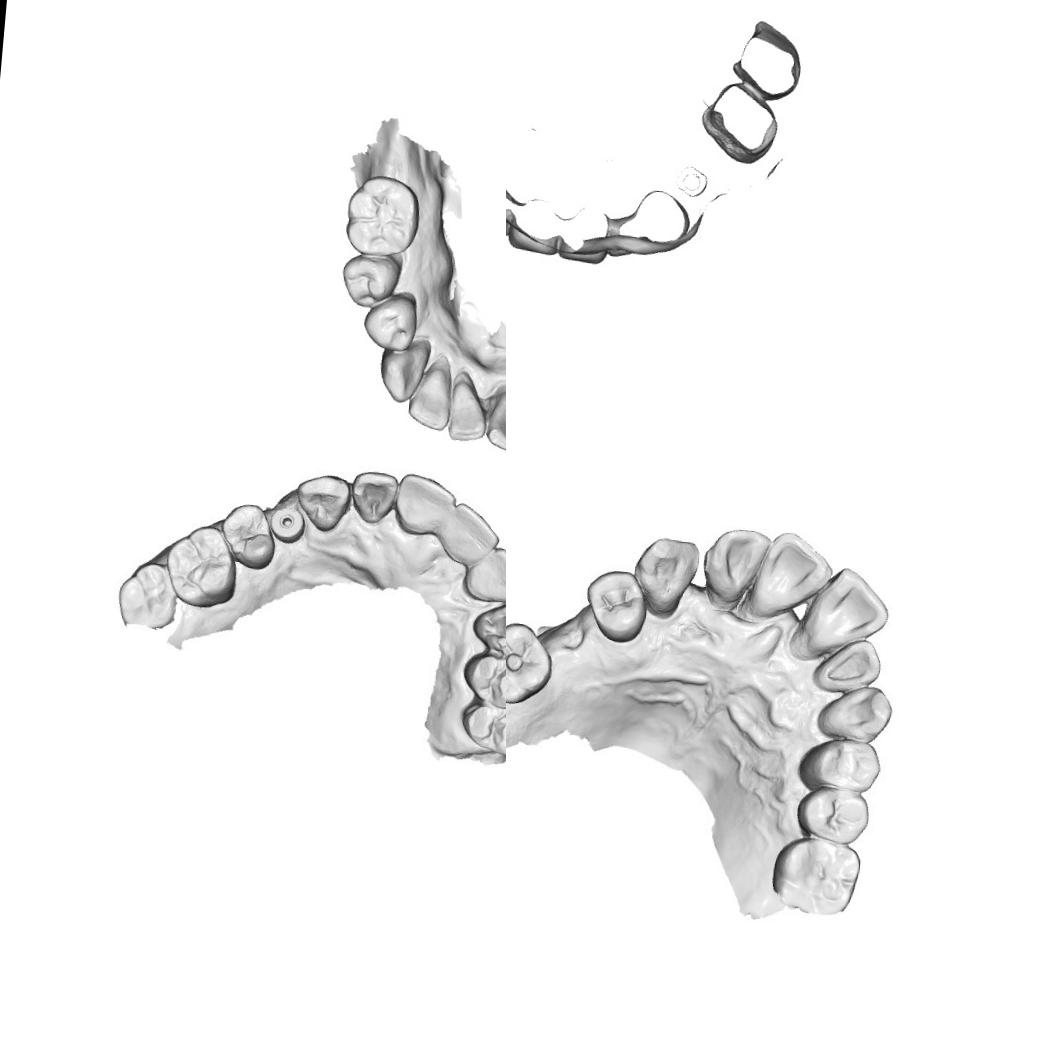canine: (630, 531, 697, 620), (810, 680, 898, 744), (292, 469, 350, 534), (468, 599, 506, 659)
implant: (270, 506, 307, 543)
incisor: (740, 523, 834, 632), (798, 563, 893, 656), (698, 525, 770, 605), (390, 468, 458, 538), (435, 497, 506, 564), (810, 634, 886, 694), (378, 338, 428, 407), (406, 364, 456, 432), (459, 538, 506, 605), (347, 468, 398, 526), (446, 378, 489, 446), (482, 387, 506, 453)
molar: (764, 834, 867, 917), (340, 172, 422, 260), (160, 520, 240, 608), (110, 558, 180, 632), (506, 617, 557, 711)
premolar: (582, 565, 650, 646), (796, 736, 881, 794), (790, 788, 872, 846), (217, 501, 278, 572), (337, 252, 403, 314), (359, 293, 420, 355), (457, 697, 506, 759), (460, 651, 506, 709)
